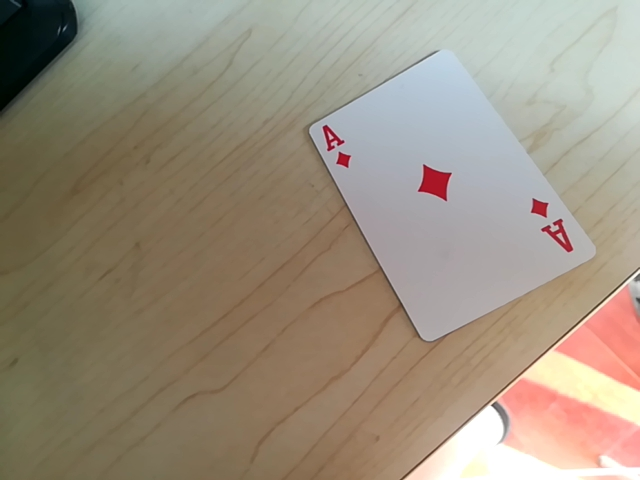fk a: (531, 191, 574, 255), (311, 124, 356, 174)
